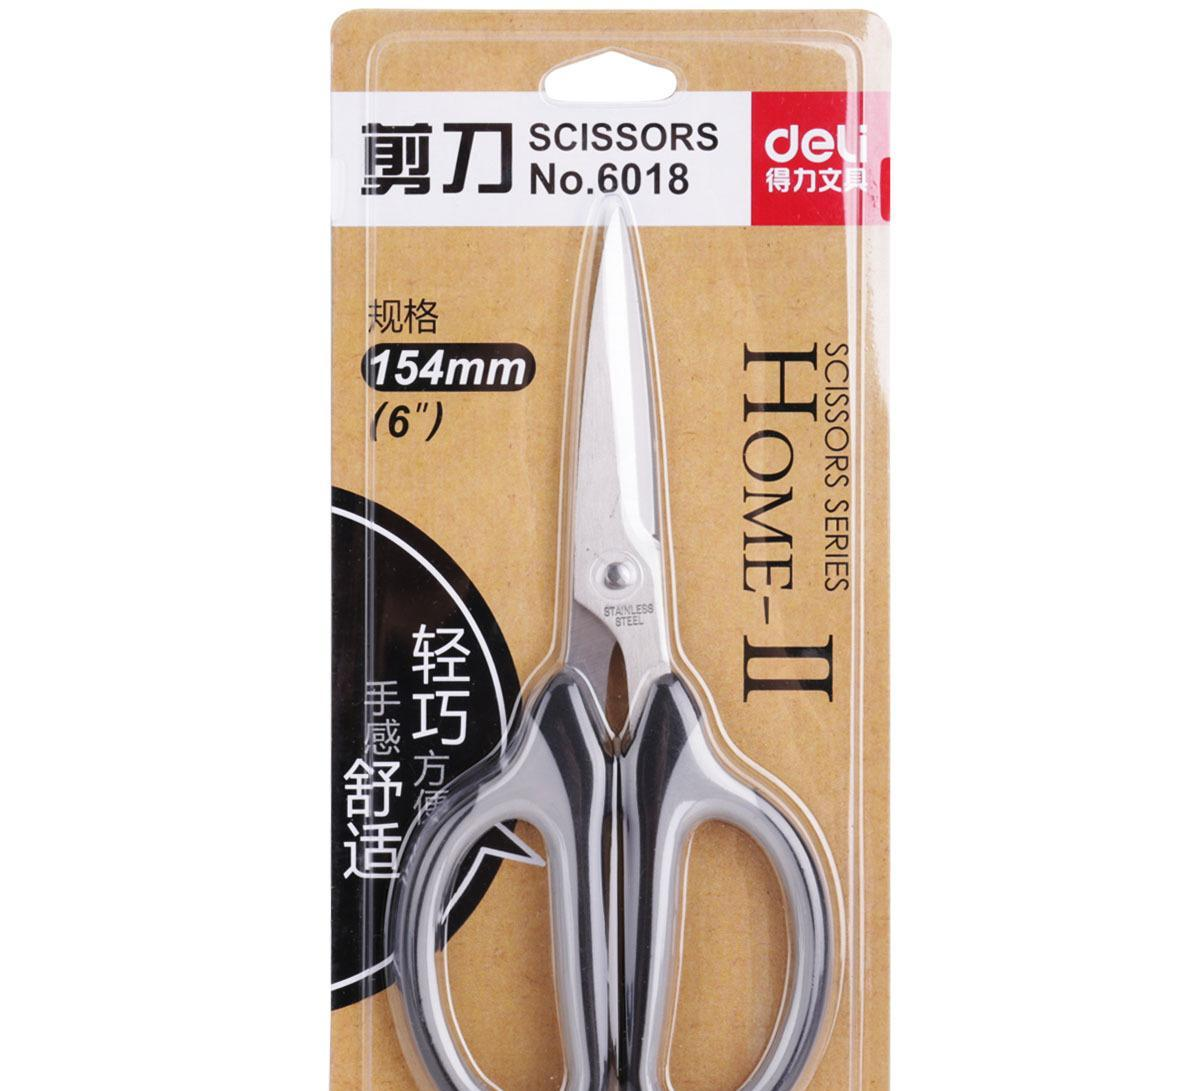scissor: (348, 222, 822, 1081)
